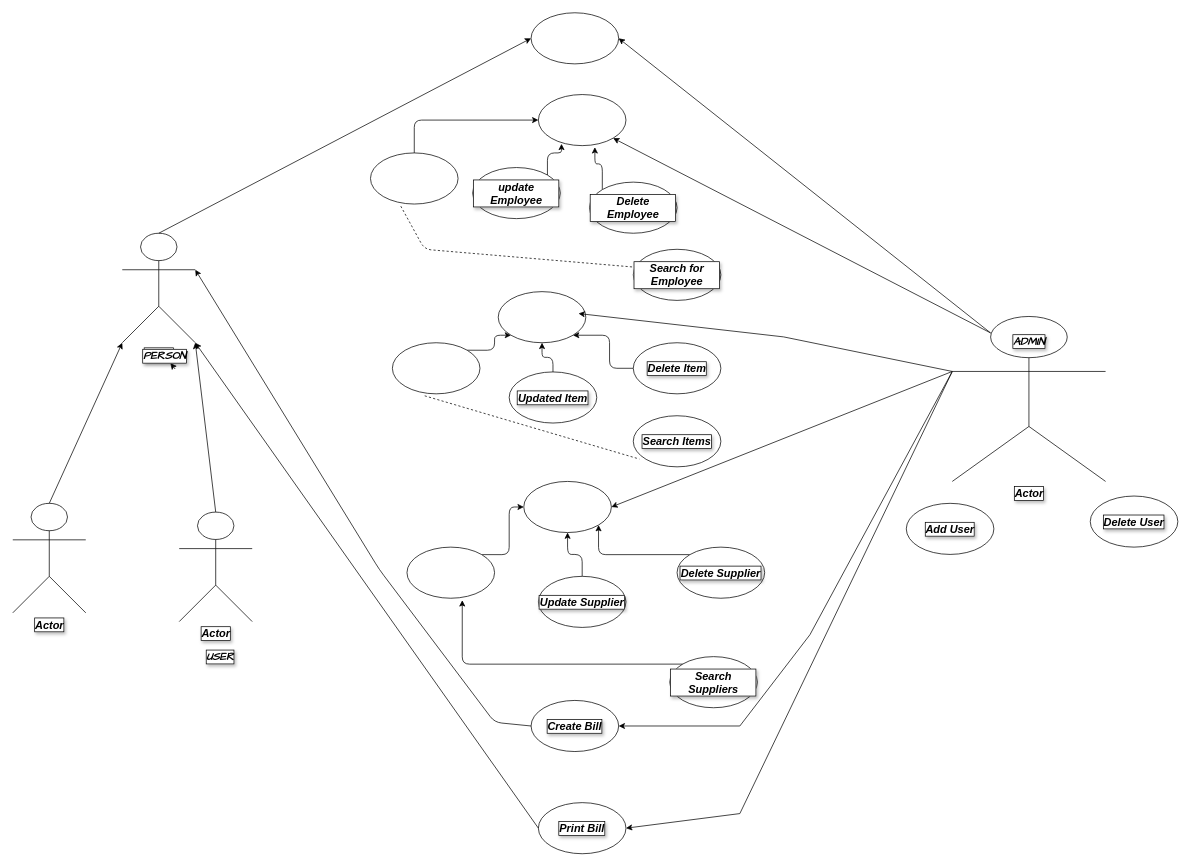
Some shapes in this 1191 by 867 pixel diagram are drawn without their labels. The shapes that lost their labels are listed below. From the top down, each one's centre as x and y in pixels, then its label:
At (x=574, y=38): "LOGIN".
At (x=582, y=120): "Employee Details".
At (x=414, y=178): "instert Employee".
At (x=541, y=317): "Item Details".
At (x=436, y=368): "Insert Item".
At (x=567, y=507): "Supplier Details".
At (x=450, y=572): "insert Supplier".
